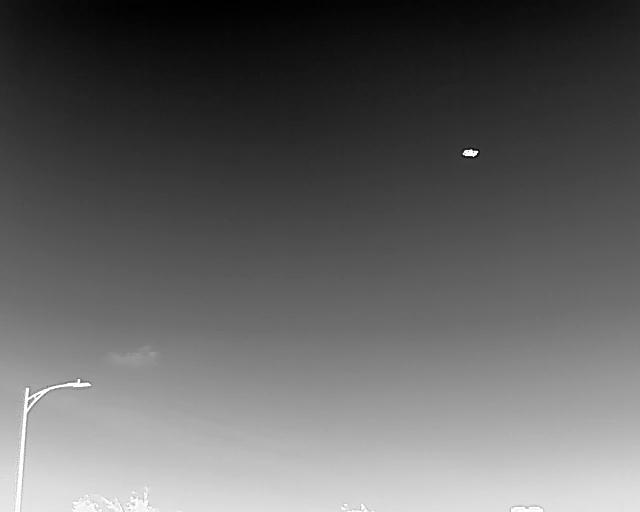fpv-drone: (461, 148, 479, 158)
